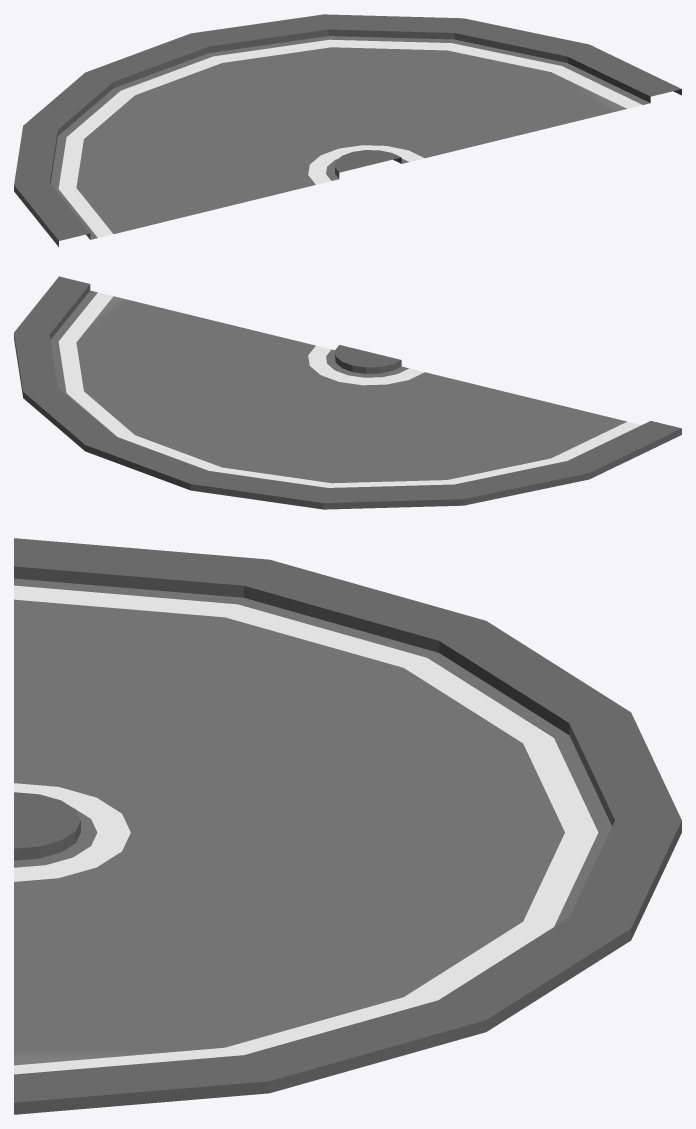
The model's file is URoadType_2.fbx.
3 renders of one model, top to bottom at view 1: azimuth 30°, elevation 25°; view 2: azimuth 150°, elevation 25°; view 3: azimuth 270°, elevation 25°, orthographic. The views are drawn at different scales.
Visible parts, largest first — view 1: URoad_Type_2; view 2: URoad_Type_2; view 3: URoad_Type_2.
Part boxes in pixels (x1,y1,x2,y2): URoad_Type_2: (14, 14, 681, 246); URoad_Type_2: (14, 276, 681, 509); URoad_Type_2: (14, 538, 681, 1114).
Size of the model in its own units: 2000 by 20 by 1000.
